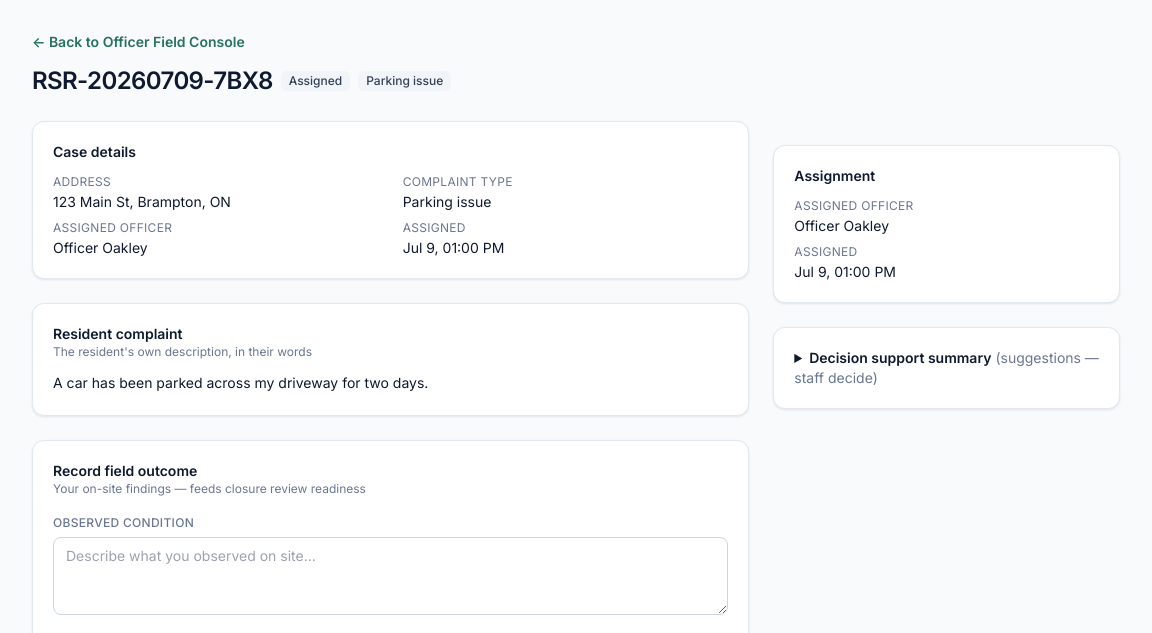
Test: AppOfficerCasePage field outcome submission › does not show success when the structured action was not saved
This screenshot has width=1152, height=633.
Check: the heading "Record field outcome" is shown, box [53,462,197,479]
In the text box with placeholder "Describe what you observed on site…": (391, 576) [53,537,728,615], type "Vehicle parked across the driveway."
(page scrolled)
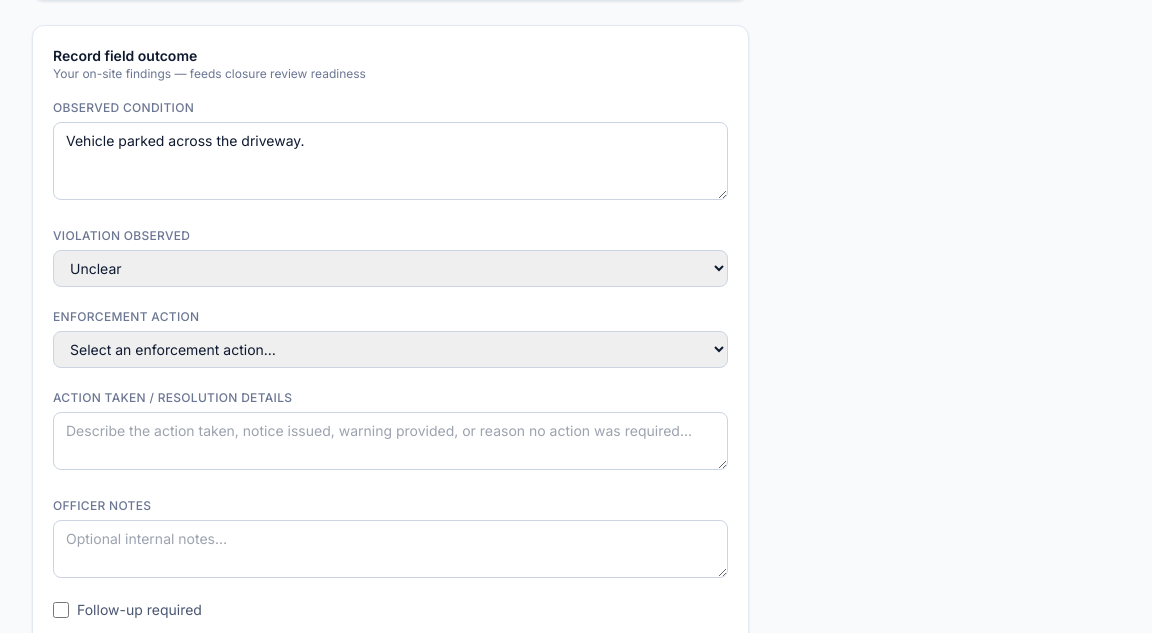
Select "Education / warning provided" in the dropdown labelled "Enforcement action": (391, 349) [53,331,728,368]
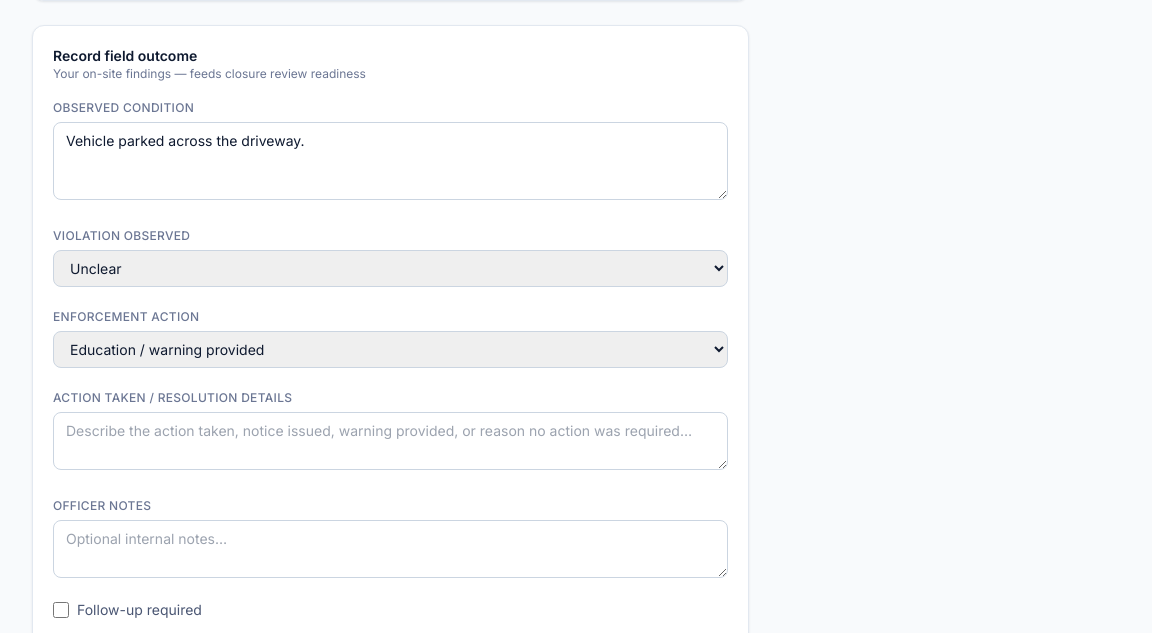
Replace the text in the text box with placeholder "Describe the action taken, notice issued, warning provided, or reason no action was required…" with "Issued a verbal warning.": (391, 441) [53,412,728,470]
(page scrolled)
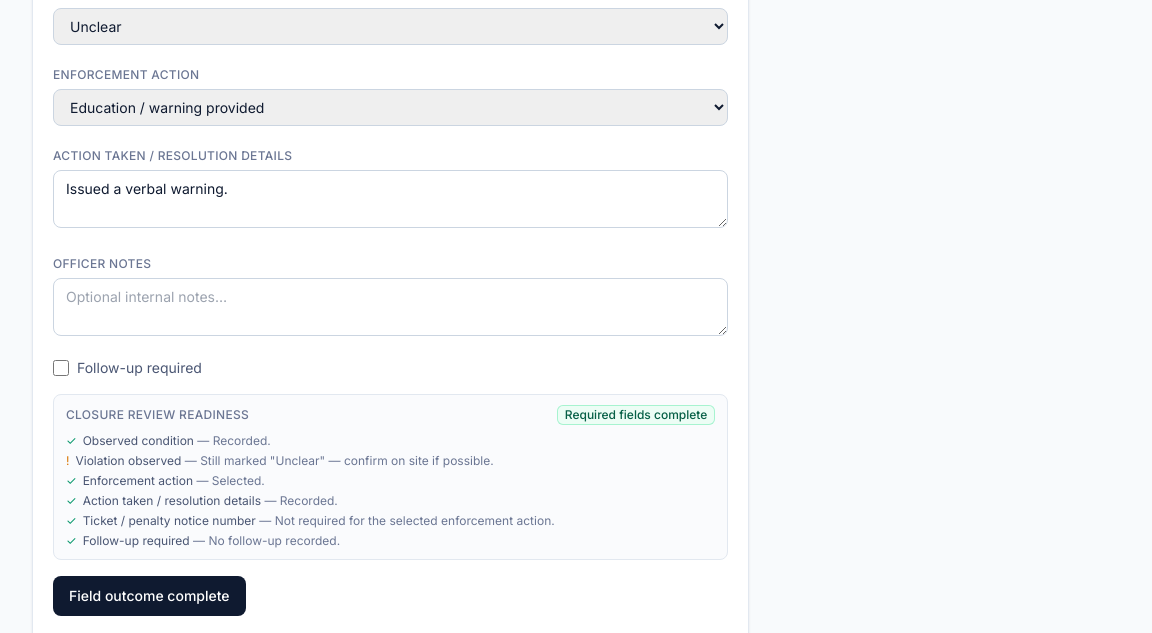
Click the button "Field outcome complete": (149, 596) [53,576,246,616]
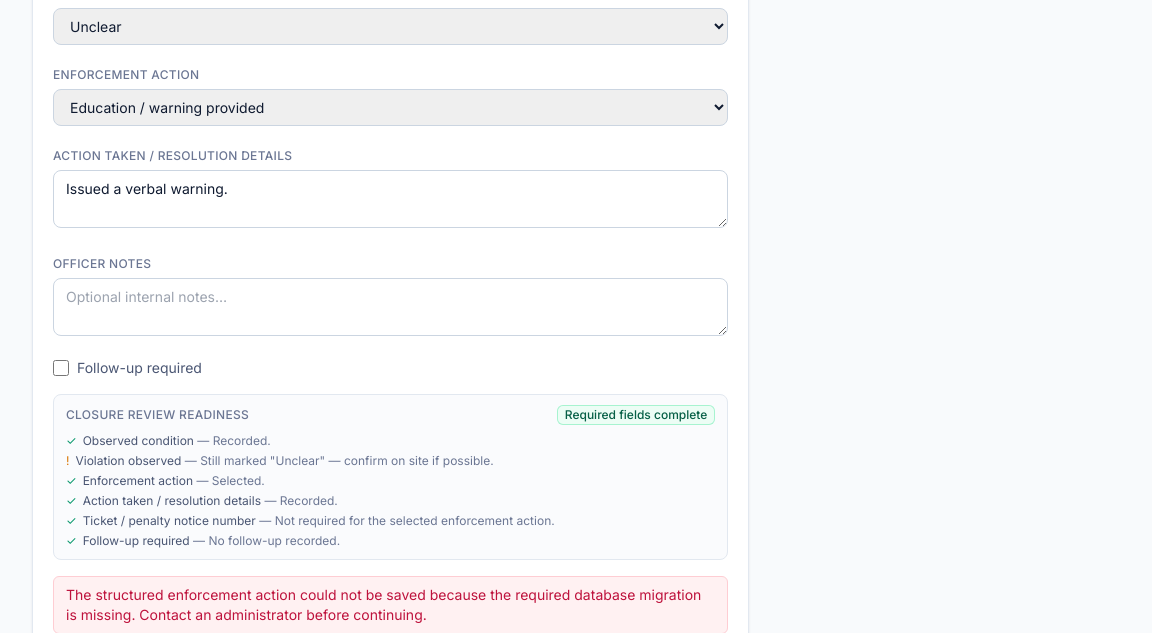
Check: the text "structured enforcement action could not be saved because the required database migration is missing" is shown, box [66,586,701,623]
